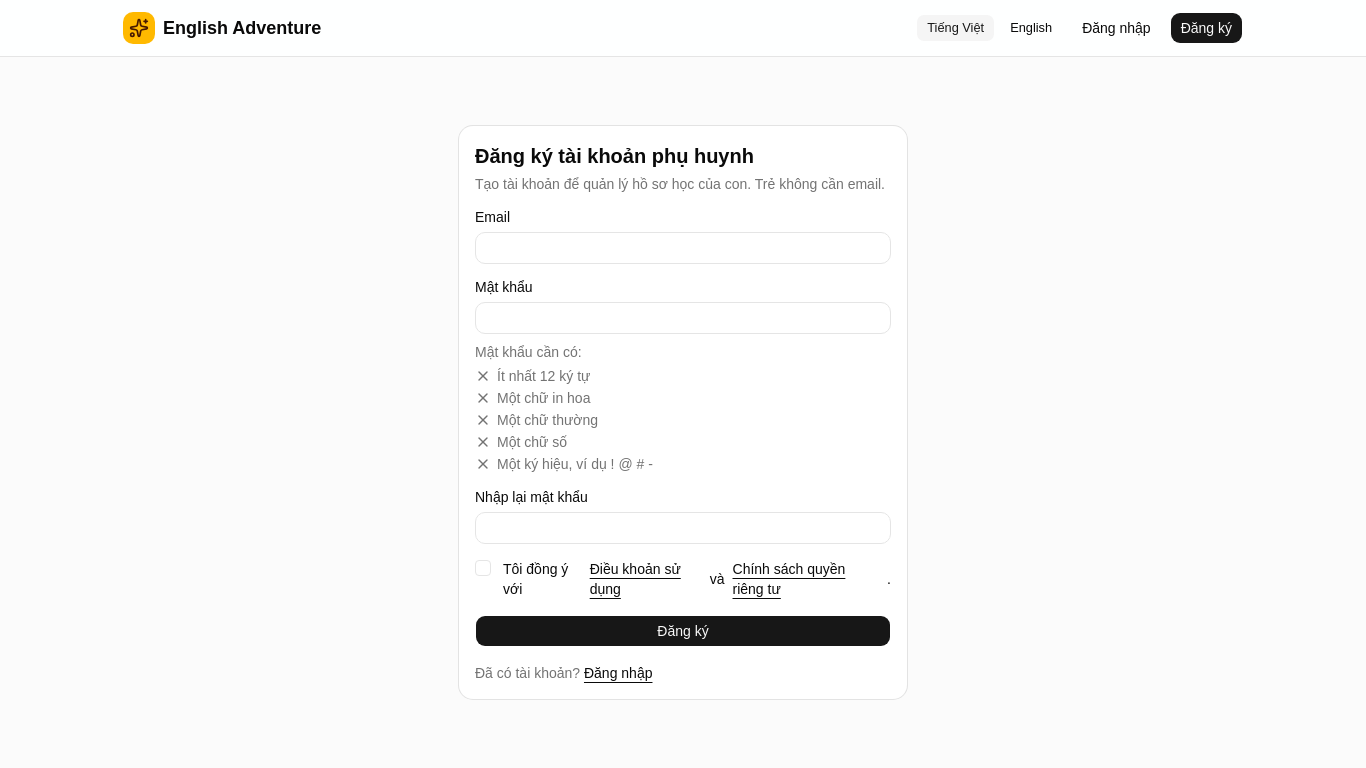
registration › asks to wait after too many attempts
Type " new.parent@example.test " into the field labelled "Email" at (683, 248), box [475, 232, 891, 264]
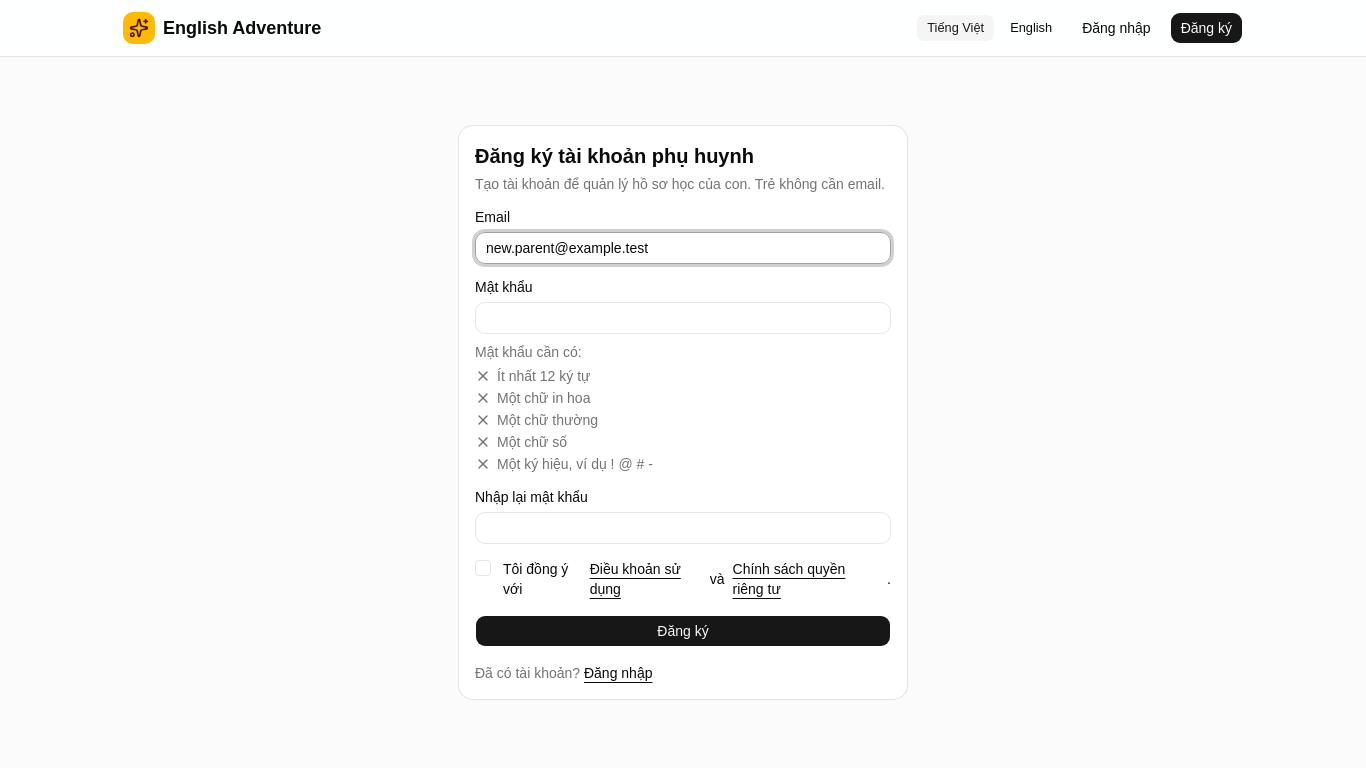
Type "Correct-horse-1" into the password field labelled "Mật khẩu" at (683, 318), box [475, 302, 891, 334]
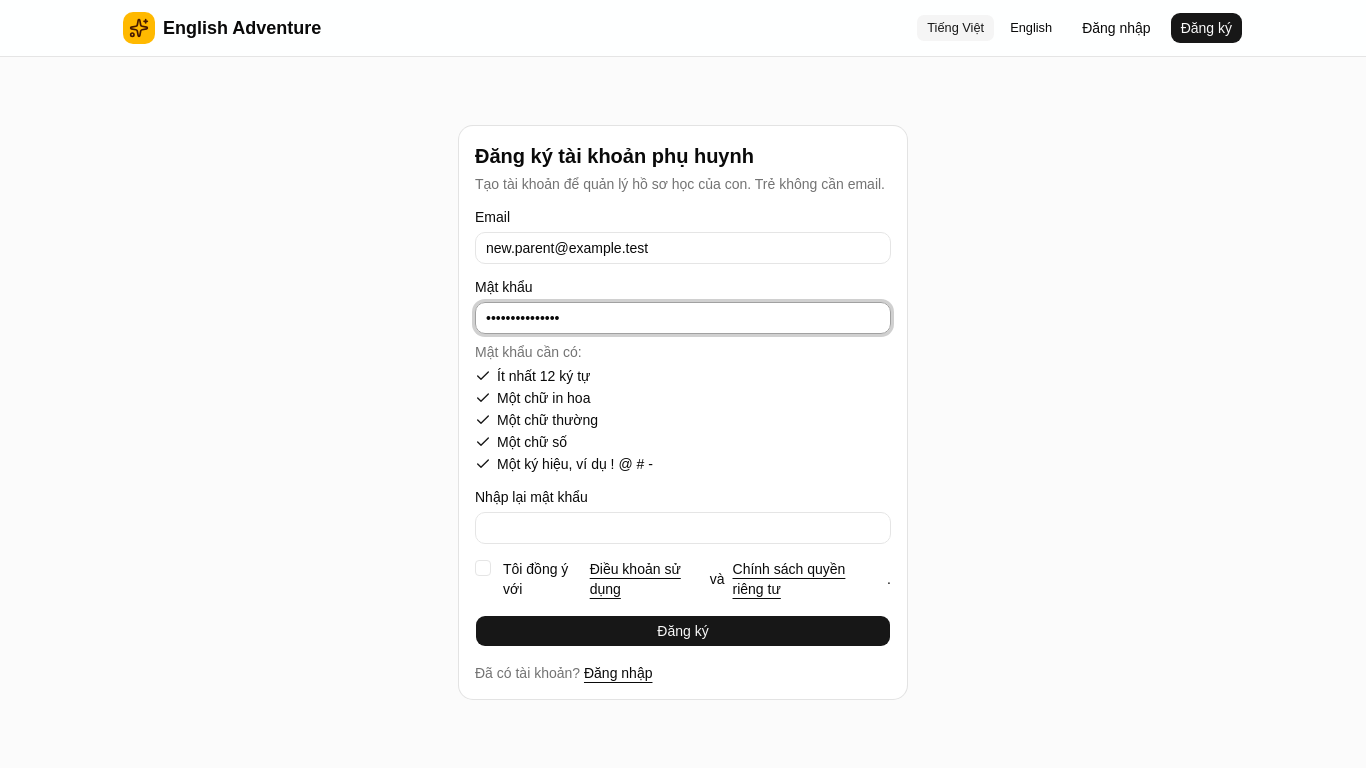
Type "Correct-horse-1" into the password field labelled "Nhập lại mật khẩu" at (683, 528), box [475, 512, 891, 544]
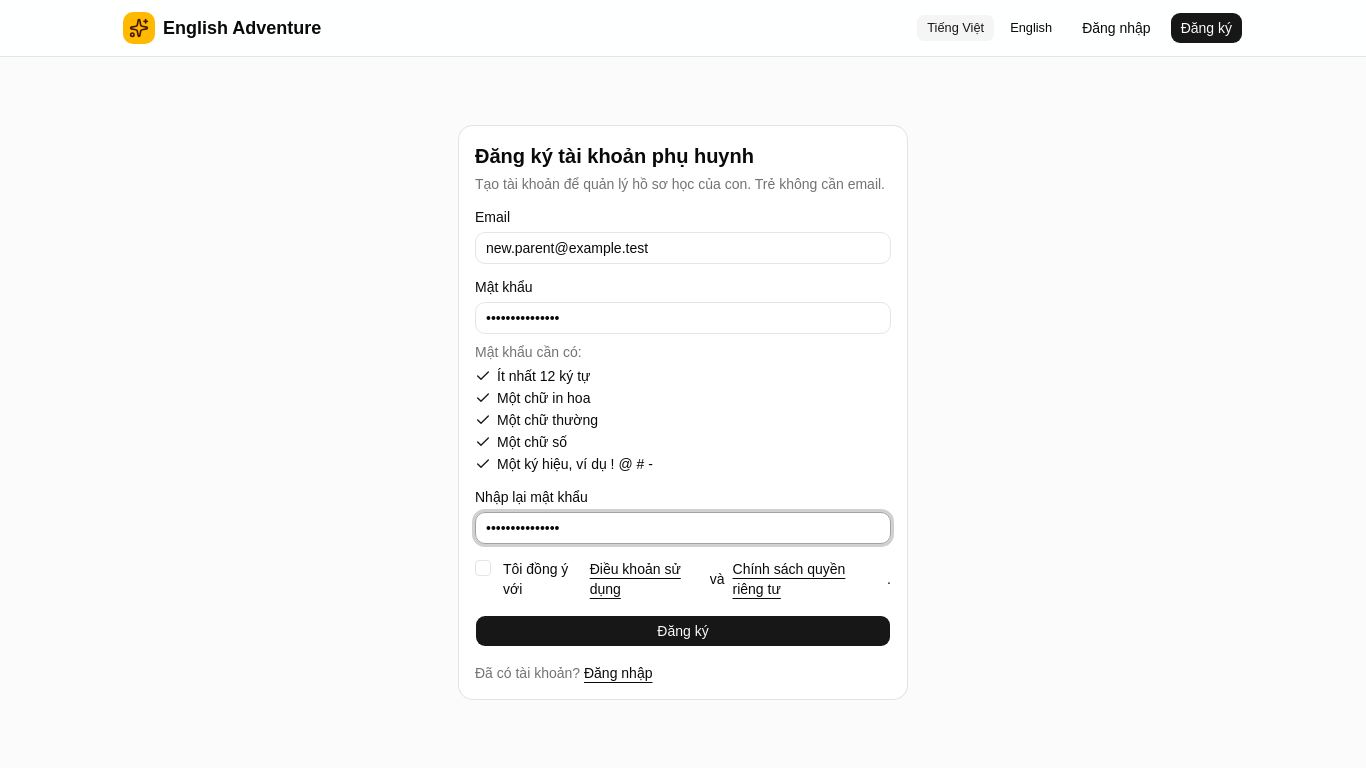
Click the checkbox named "Tôi đồng ý" at (483, 568), box [475, 560, 491, 576]
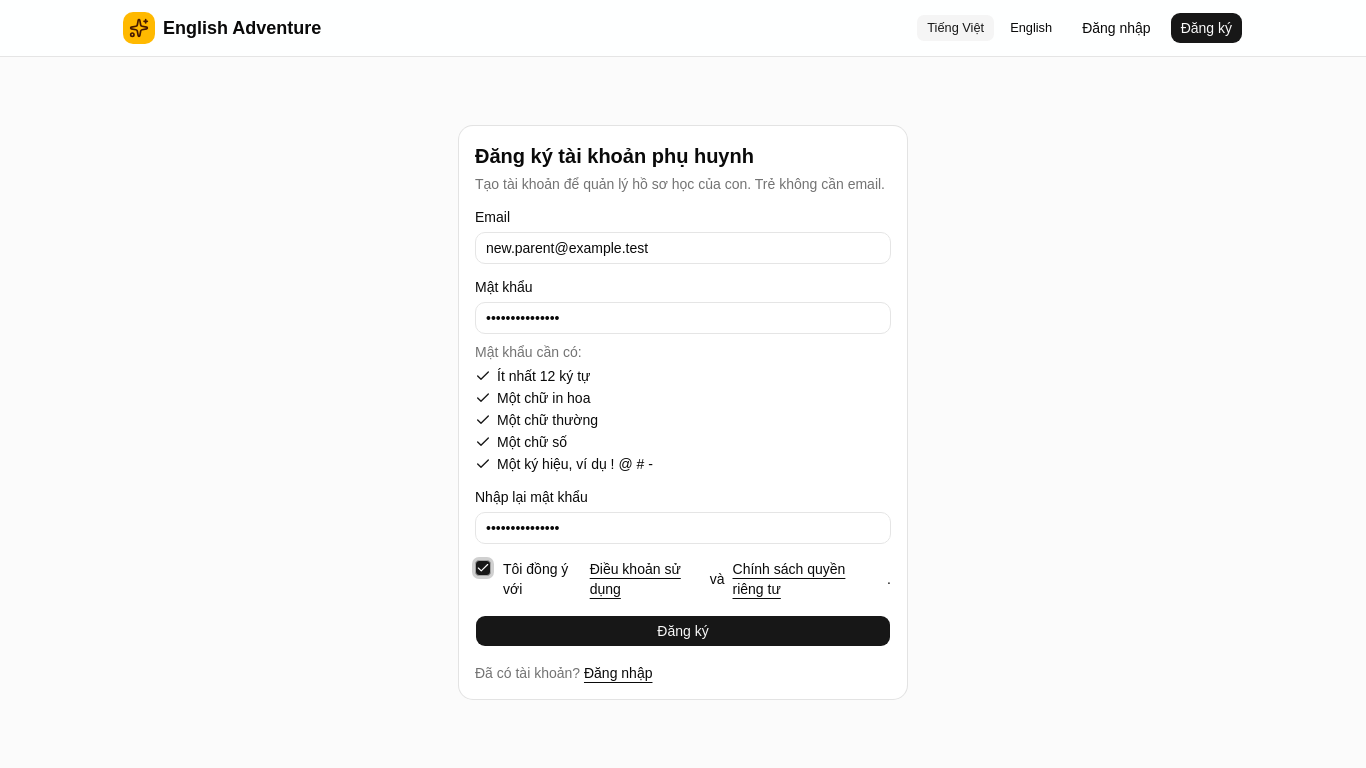
Click the button "Đăng ký" at (683, 631), box [475, 615, 891, 647]
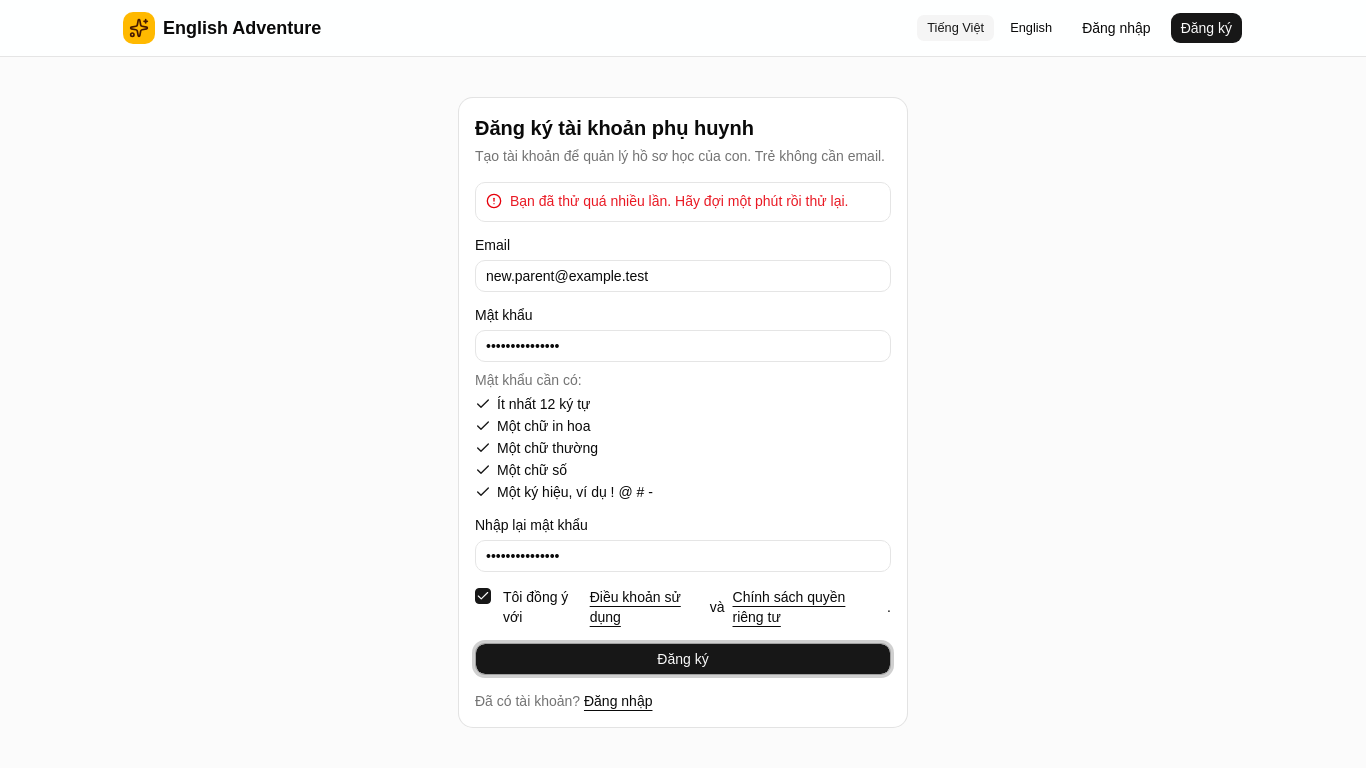
Expected: the message shows "Bạn đã thử quá nhiều lần.", [510, 193, 848, 209]
